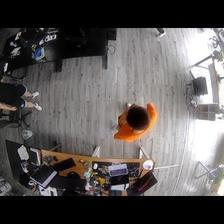normal: (108, 99, 157, 143), (1, 82, 43, 111)
